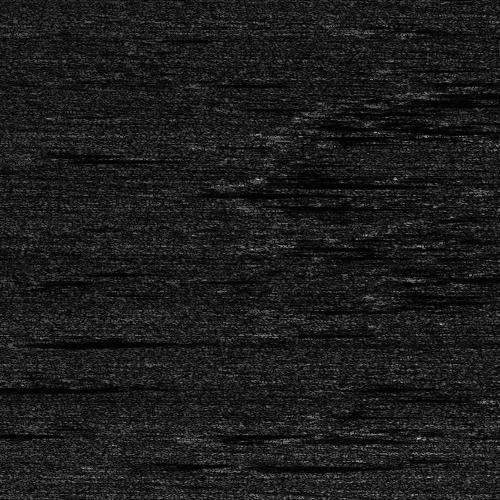object: (271, 105, 334, 118), (386, 87, 469, 96), (61, 459, 154, 466), (11, 337, 64, 346), (265, 120, 318, 129), (212, 181, 275, 186), (266, 433, 307, 438), (261, 330, 302, 335), (293, 410, 334, 415), (212, 465, 275, 468), (0, 428, 24, 435), (157, 191, 188, 196), (467, 397, 500, 400), (249, 203, 280, 206), (347, 457, 378, 460)
shadow: (292, 120, 461, 129), (303, 105, 416, 118), (38, 337, 201, 346), (0, 383, 93, 392), (244, 181, 409, 186), (173, 191, 330, 196), (107, 459, 206, 466), (428, 87, 500, 96), (0, 428, 90, 435), (287, 433, 398, 438), (314, 410, 399, 415), (265, 203, 404, 206), (282, 330, 365, 335), (244, 465, 379, 468), (287, 308, 399, 311), (363, 457, 392, 460)
